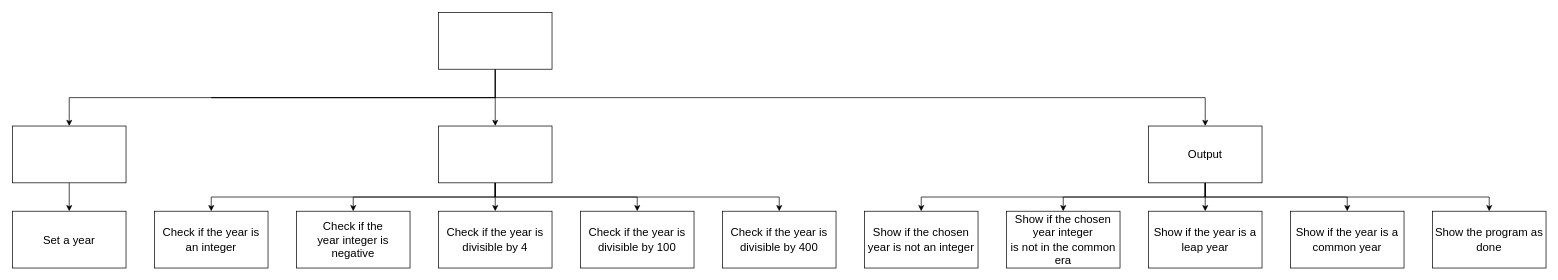
Some shapes in this 1558 by 280 pixel diagram are drawn without their labels. Here are the shapes that lost their labels. From the top down, the box of each, then its label:
(438, 12, 552, 69): Checking Leap Years
(12, 125, 126, 183): Input
(438, 125, 552, 183): Process
